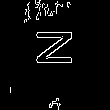N_W: (33, 35, 77, 75)
